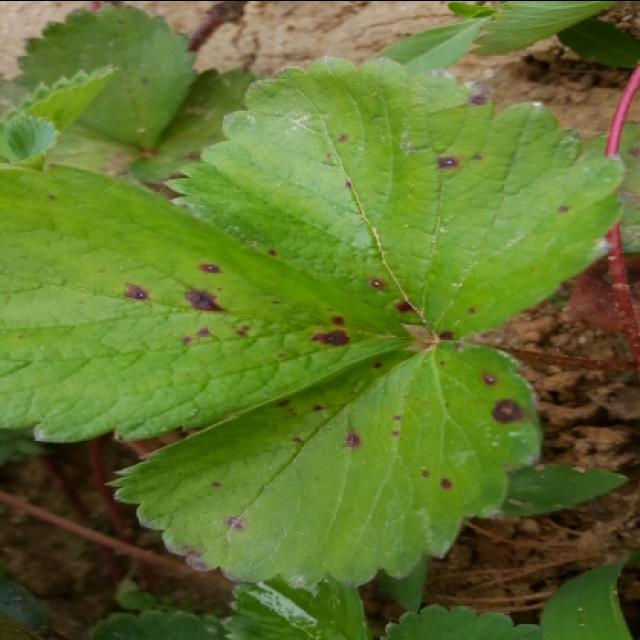Leaf Spot: (163, 53, 624, 341), (0, 158, 420, 444), (103, 342, 541, 590), (11, 0, 200, 152), (131, 66, 269, 183)
